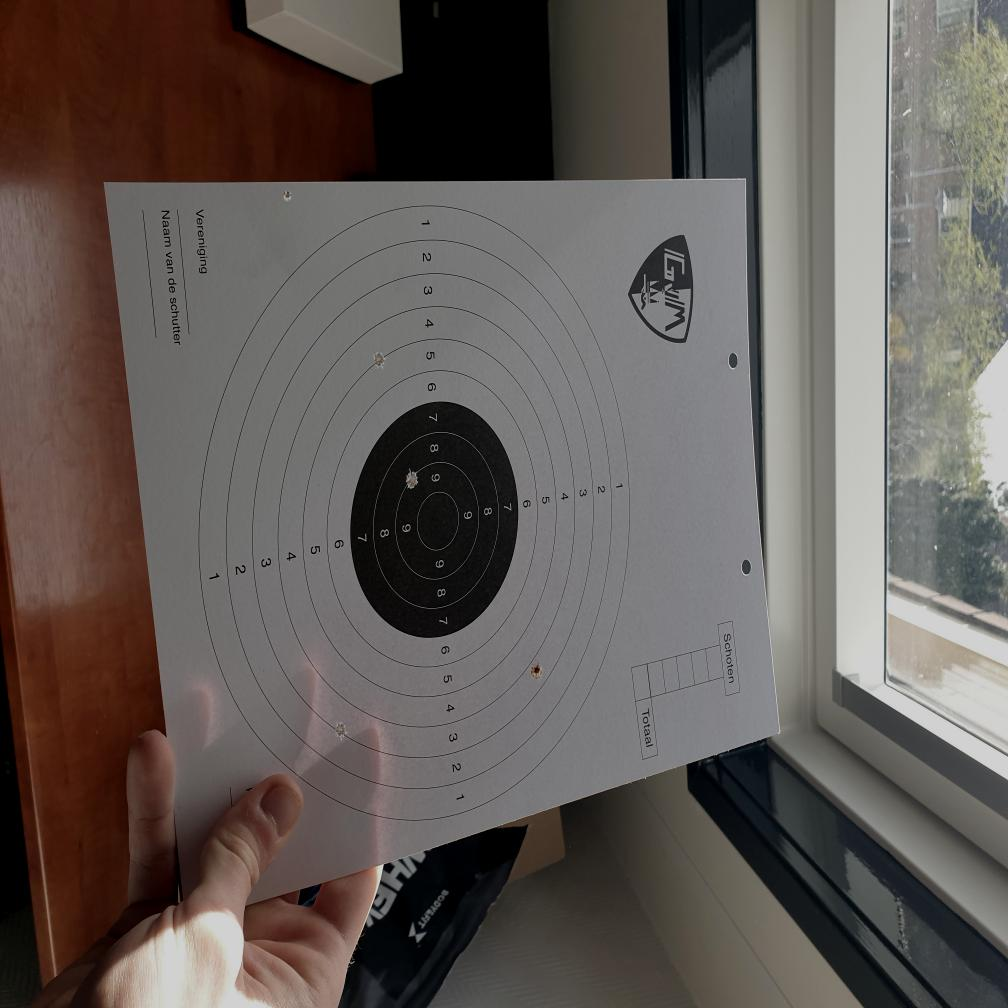0: (283, 188, 292, 203)
3: (335, 720, 348, 742)
4: (529, 663, 544, 682)
5: (372, 350, 386, 370)
9: (406, 467, 419, 491)
Target: (197, 203, 630, 819)
black_contour: (350, 401, 519, 639)
